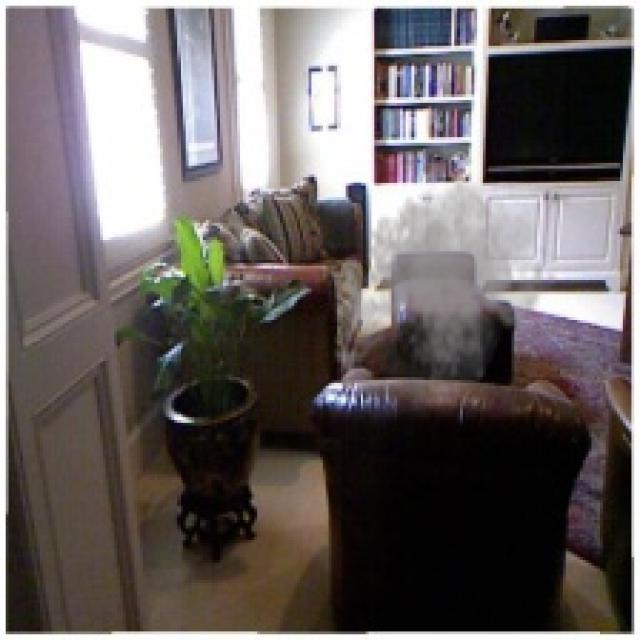smoke: (329, 168, 560, 412)
